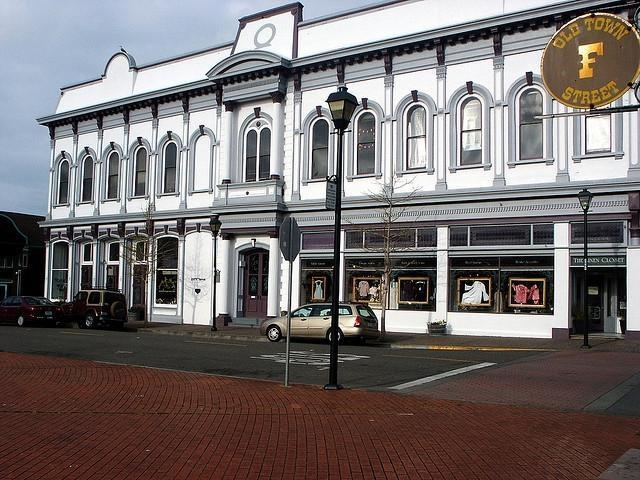car: (260, 301, 381, 344), (55, 286, 128, 330), (2, 296, 62, 329)
